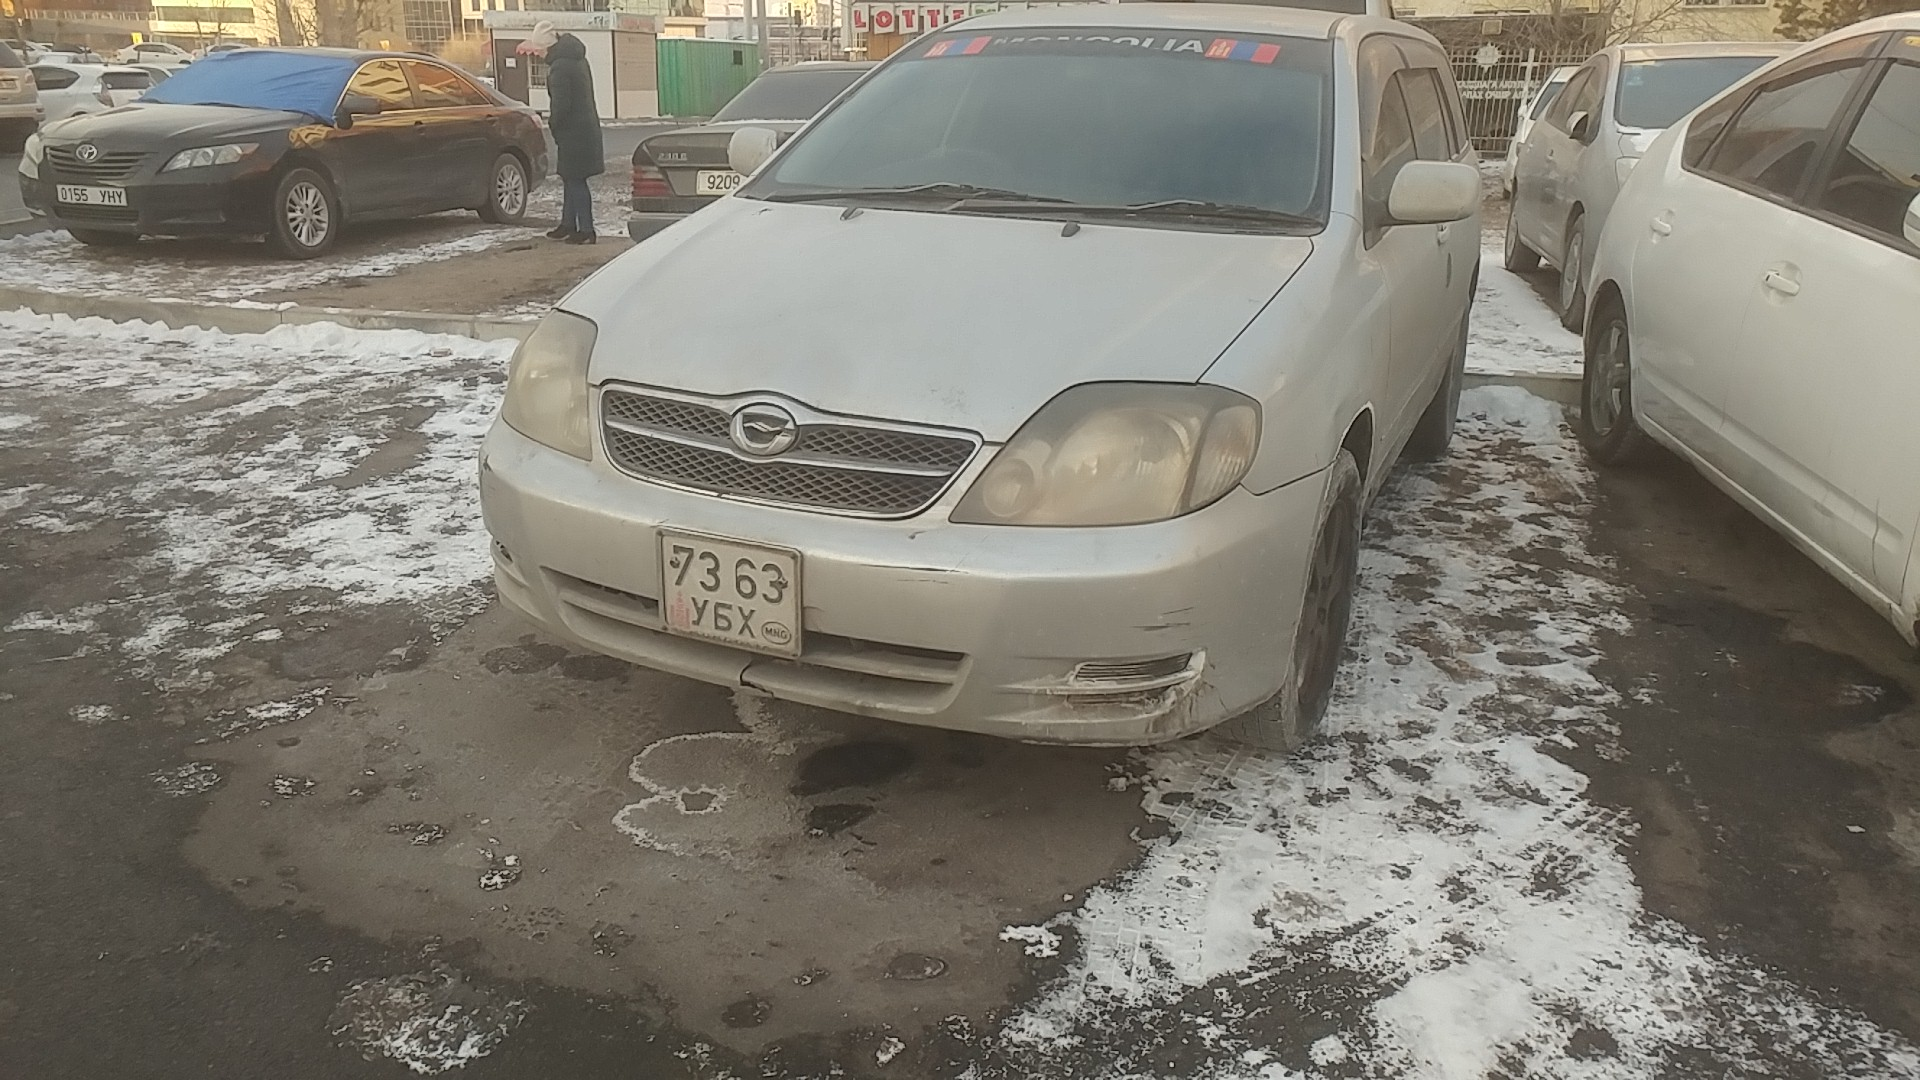3: (698, 549, 723, 595), (761, 561, 784, 604)
6: (734, 556, 760, 600)
7: (670, 544, 695, 587)
b: (711, 598, 735, 632)
h: (735, 603, 756, 639)
plate: (652, 524, 803, 660)
u: (691, 595, 709, 628)
